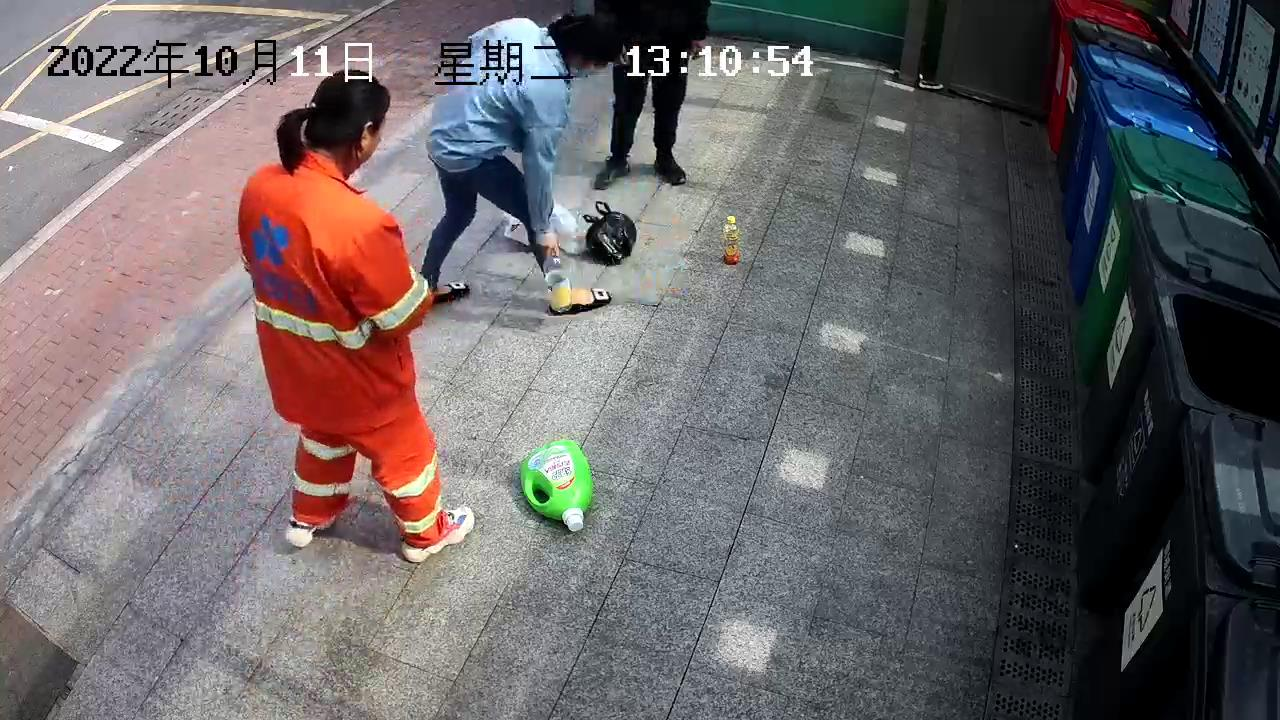garbage-bag: (580, 198, 639, 267)
suliaozhipin: (516, 436, 595, 535), (719, 211, 742, 265)
worker: (233, 64, 475, 564), (418, 9, 625, 314)
